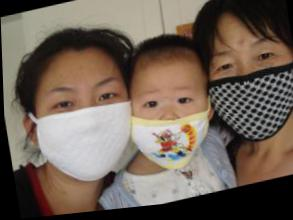OK: (29, 68, 141, 191), (199, 30, 293, 158)
WRONG: (126, 80, 217, 180)
